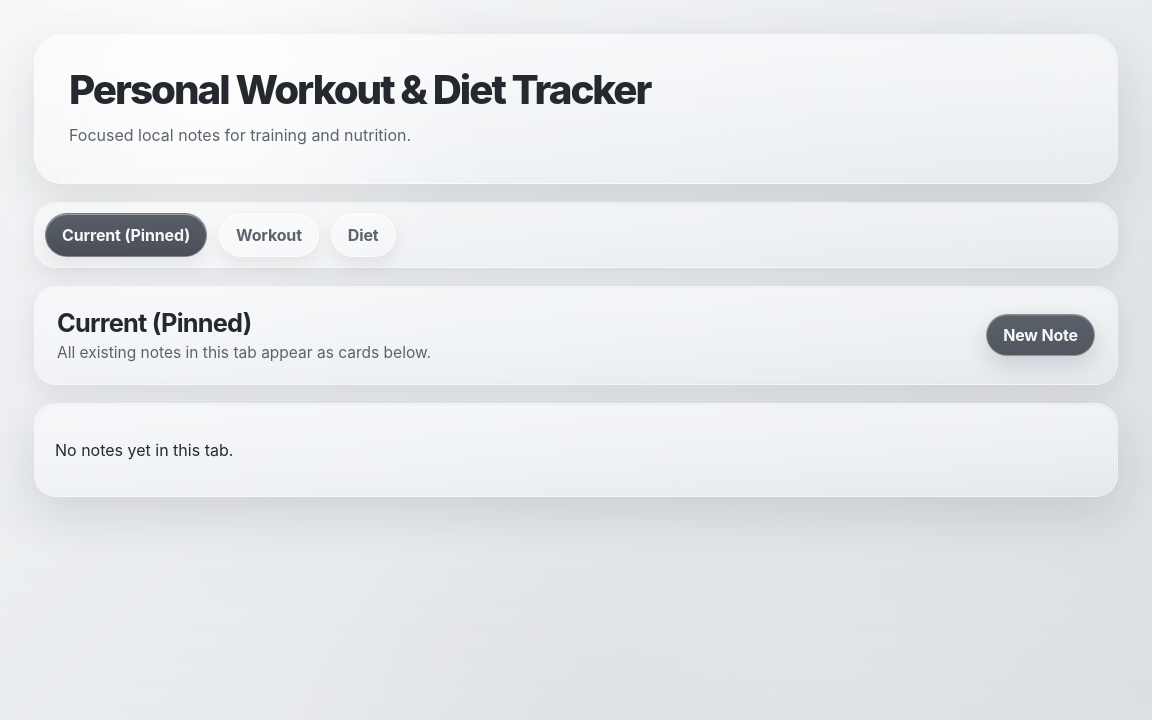
Test: NotesApp › renders friendly fetch errors when backend is unavailable
The image size is (1152, 720).
Click the button "New Note" at {"x": 1041, "y": 335}, box [986,314,1095,356]
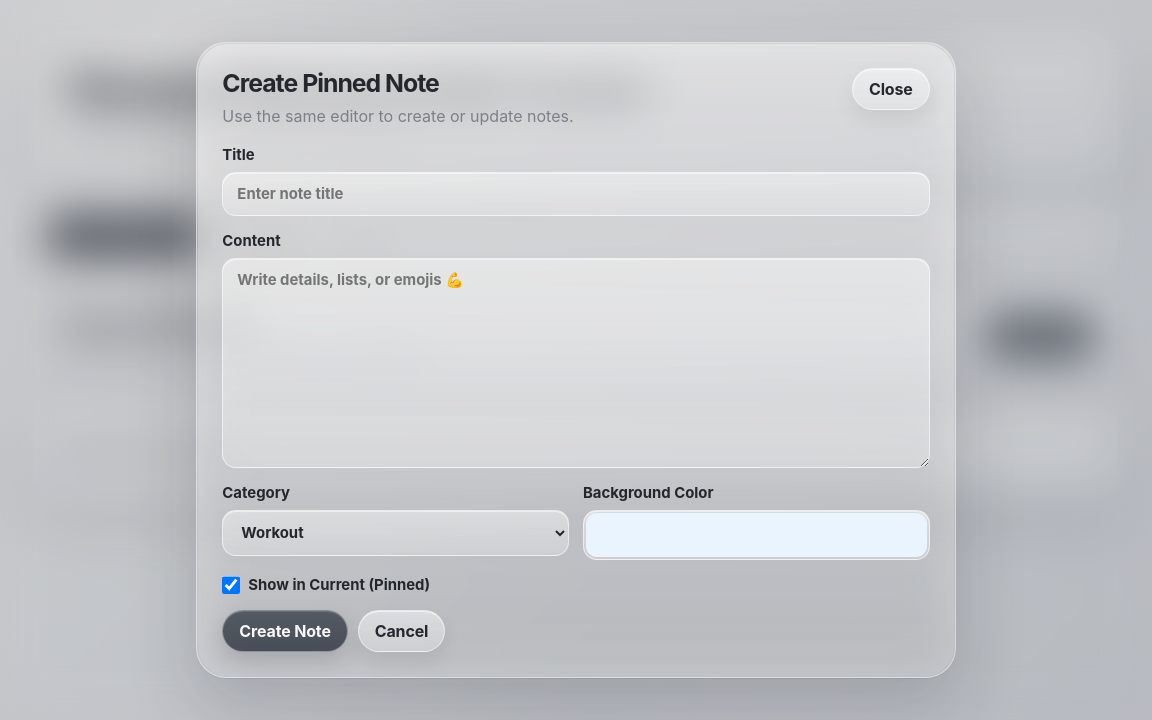
Type "Push day" into the field with placeholder "Enter note title" at {"x": 576, "y": 194}, box [222,172,930,216]
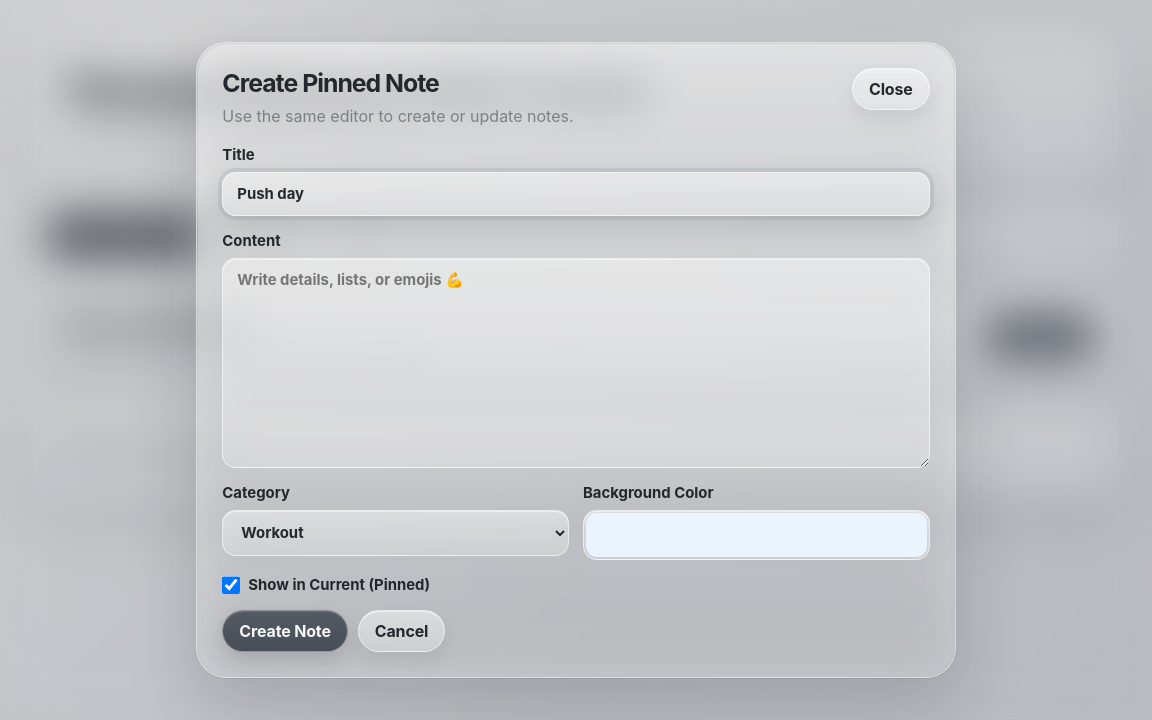
Click the button "Create Note" at {"x": 285, "y": 631}, box [222,610,348,652]
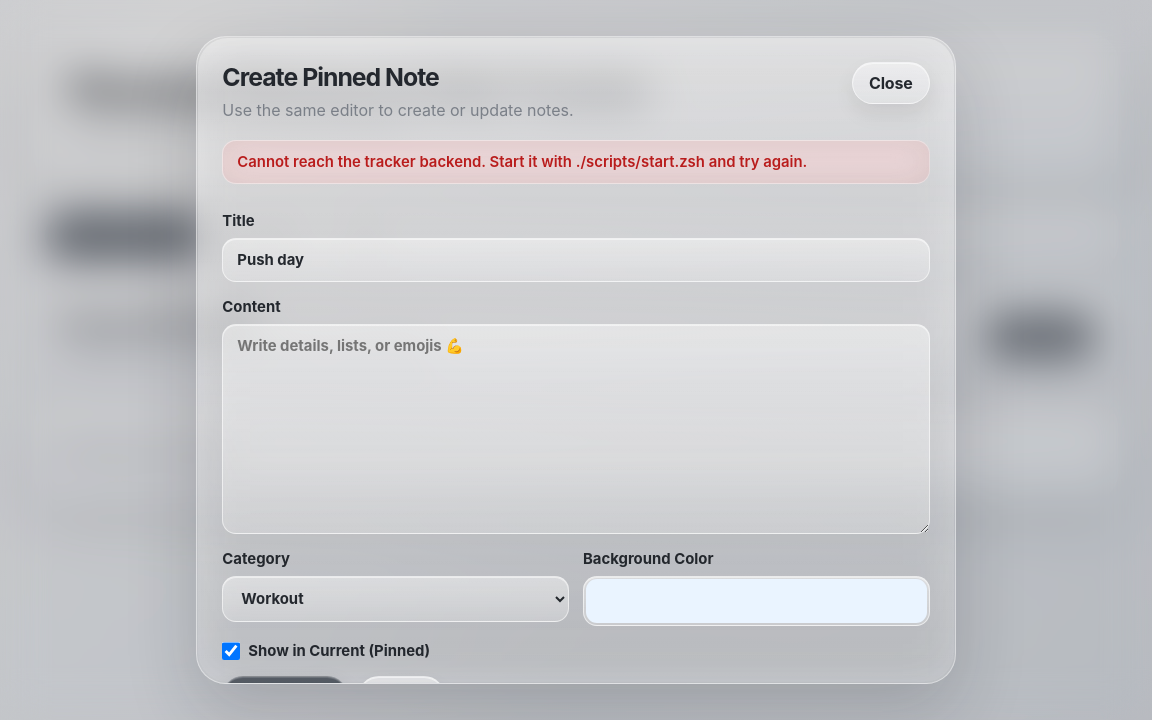
Now the text "Cannot reach the tracker backend. Start it with ./scripts/start.zsh and try again." is shown, box [237,153,807,171]
